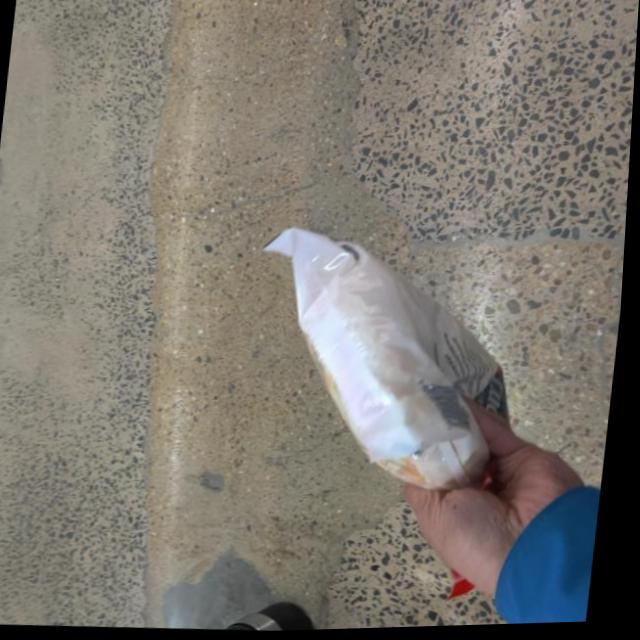Cheese: (252, 206, 538, 498)
